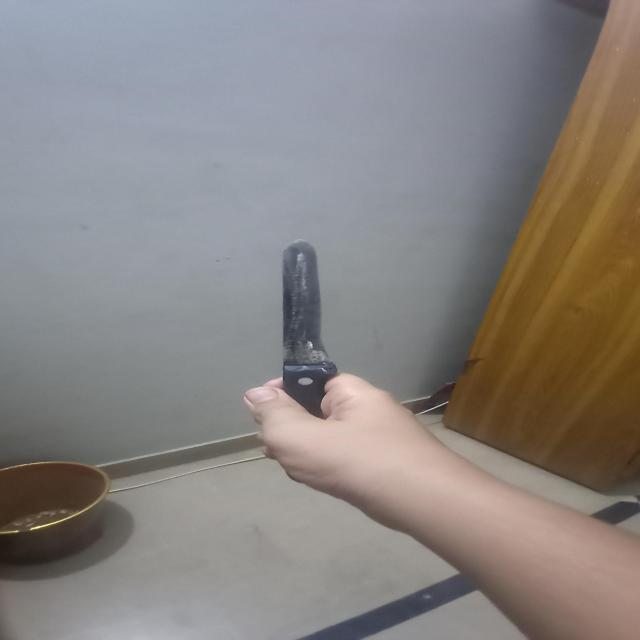faca: (276, 240, 340, 423)
